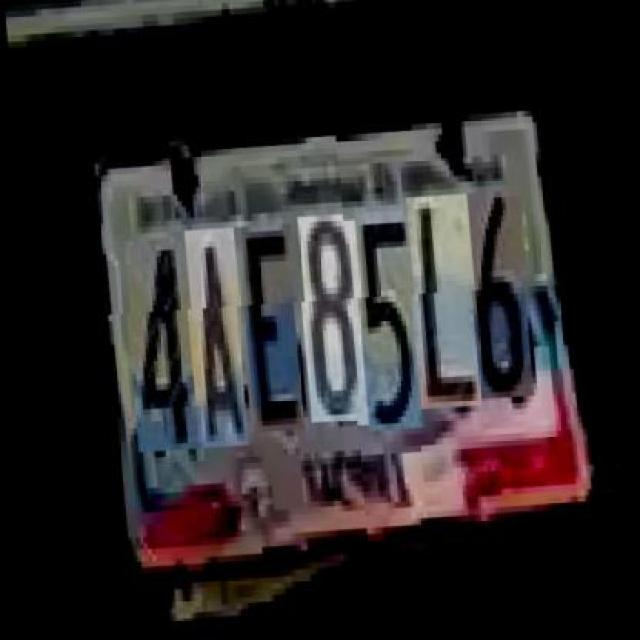4: (120, 245, 195, 460)
5: (349, 210, 418, 436)
6: (462, 197, 530, 405)
8: (294, 224, 364, 431)
a: (180, 236, 245, 456)
e: (238, 233, 300, 441)
l: (401, 199, 477, 415)
